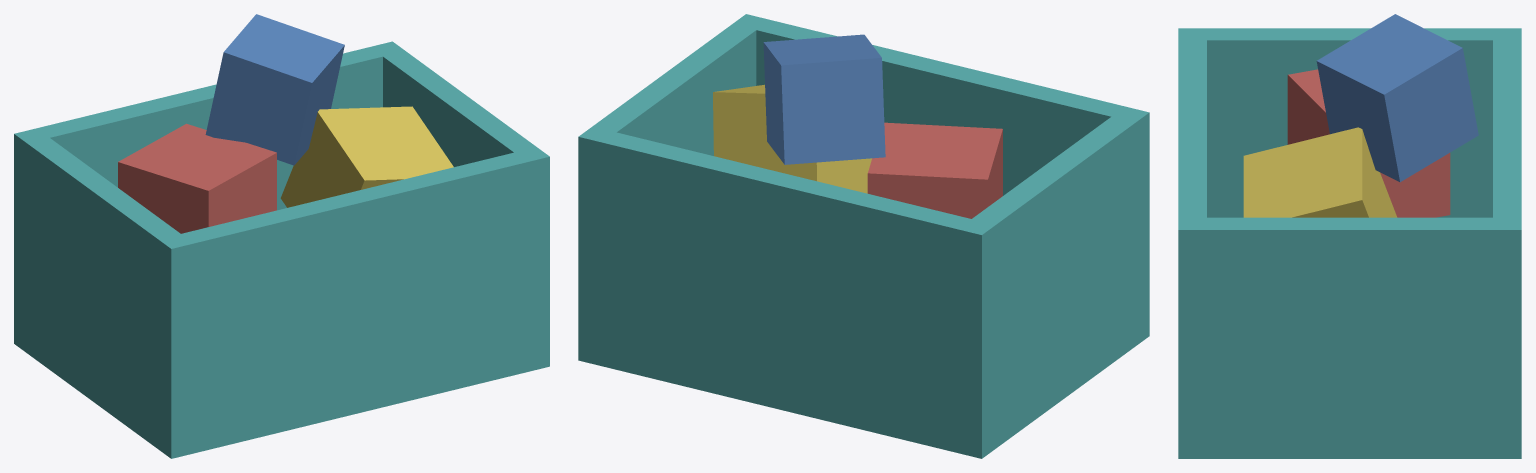
The model's file is kids_caixa_brinquedos.glb.
3 renders of one model, left to right at view 1: azimuth 30°, elevation 25°; view 2: azimuth 150°, elevation 25°; view 3: azimuth 270°, elevation 25°, orthographic. The views are drawn at different scales.
Parts seen in each view (by area): view 1: KIDS_CaixaBrinquedos_v01; view 2: KIDS_CaixaBrinquedos_v01; view 3: KIDS_CaixaBrinquedos_v01.
Part boxes in pixels (x1,y1,x2,y2): KIDS_CaixaBrinquedos_v01: (14, 14, 549, 458); KIDS_CaixaBrinquedos_v01: (578, 14, 1149, 458); KIDS_CaixaBrinquedos_v01: (1178, 14, 1521, 458).
Size of the model in its own units: 0.5 by 0.3748 by 0.36.
